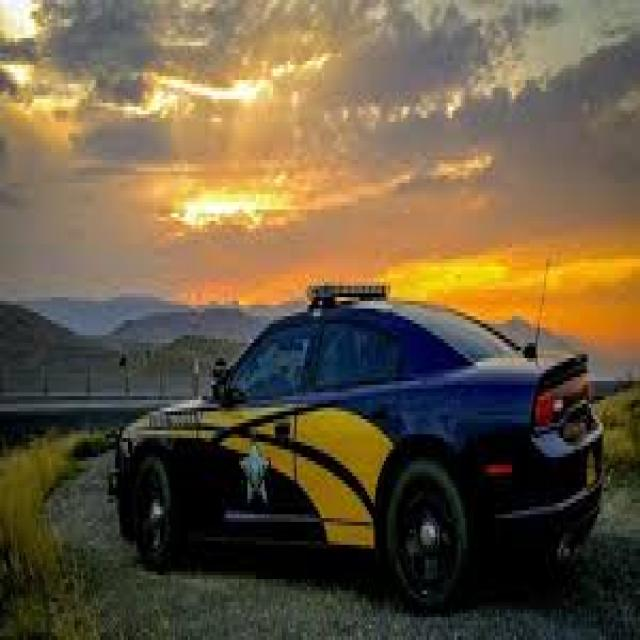cop: (112, 281, 605, 615)
